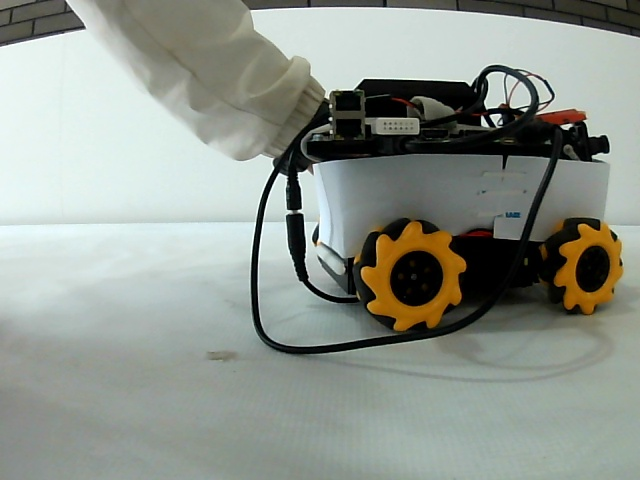car: (306, 79, 624, 336)
paper: (314, 164, 607, 214)
